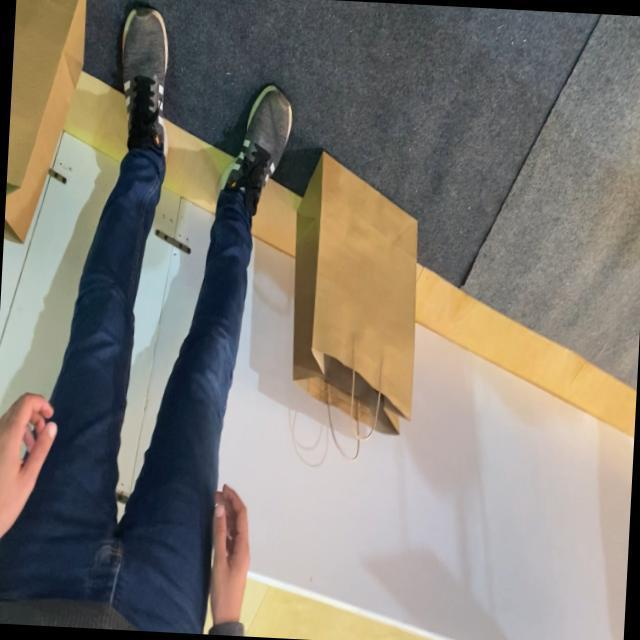Paper_Bag: (285, 150, 425, 463)
